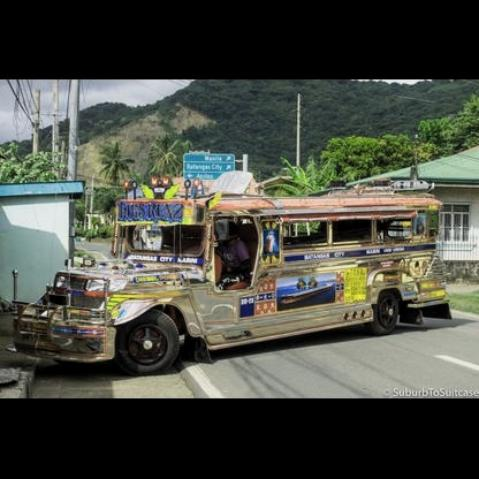jeepney: (3, 161, 474, 395)
